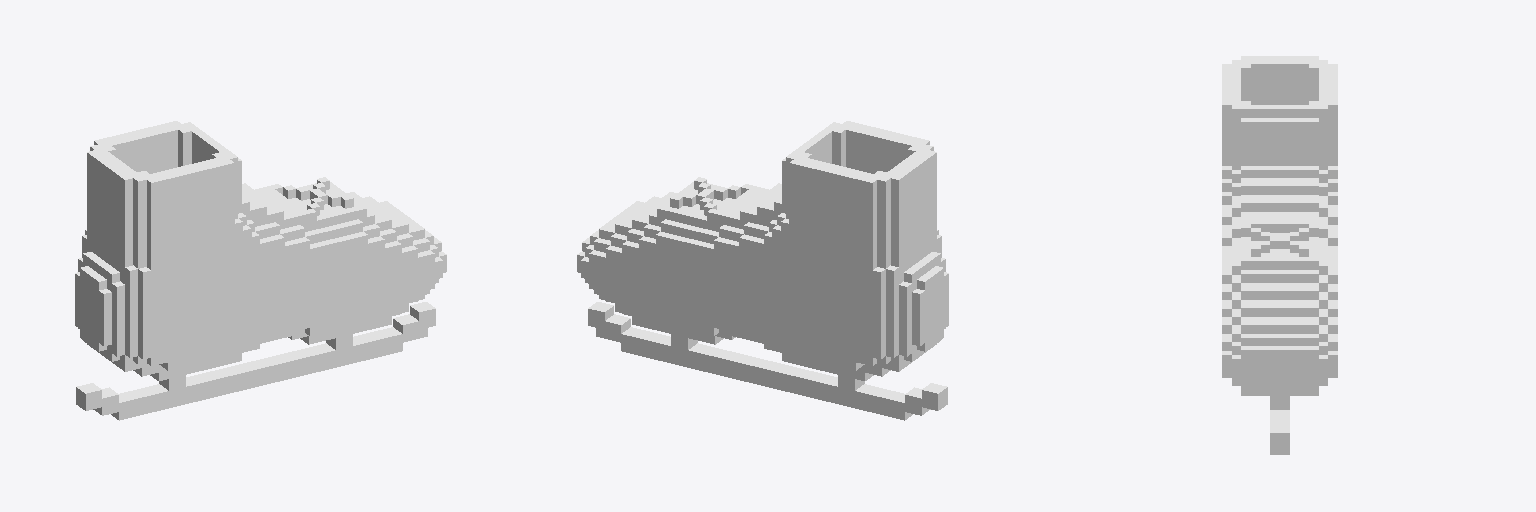
The model's file is obj.fullFigure.obj.
3 views of the same model, side by side, from view 1: azimuth 30°, elevation 25°; view 2: azimuth 150°, elevation 25°; view 3: azimuth 270°, elevation 25° (orthographic).
Visible parts, largest first — view 1: object 1; view 2: object 1; view 3: object 1.
Boxes of the visible parts, x1,y1,x2,y2 form: object 1: [75, 121, 446, 420]; object 1: [577, 121, 948, 420]; object 1: [1222, 56, 1337, 454].
Size of the model in its own units: 4.2 by 2.9 by 1.2.